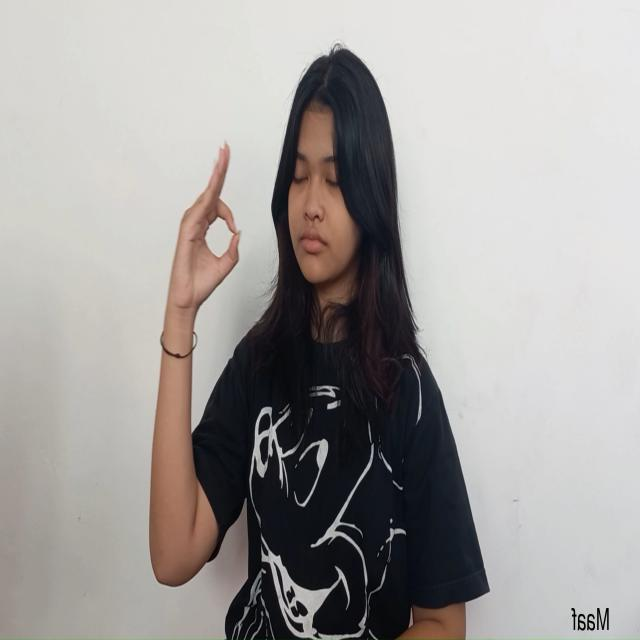Maaf -BISINDO-: (162, 138, 242, 350)
